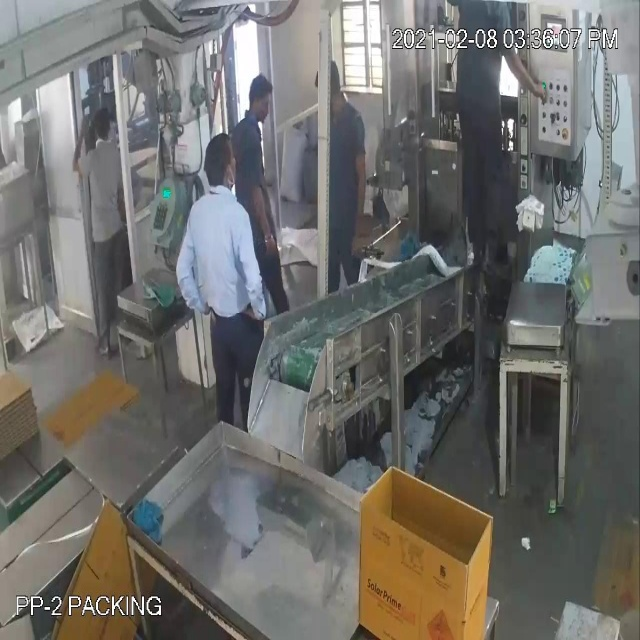Sin_guantes: (228, 215, 271, 332), (341, 134, 378, 262), (502, 29, 555, 115), (176, 219, 214, 329), (248, 178, 283, 270)
